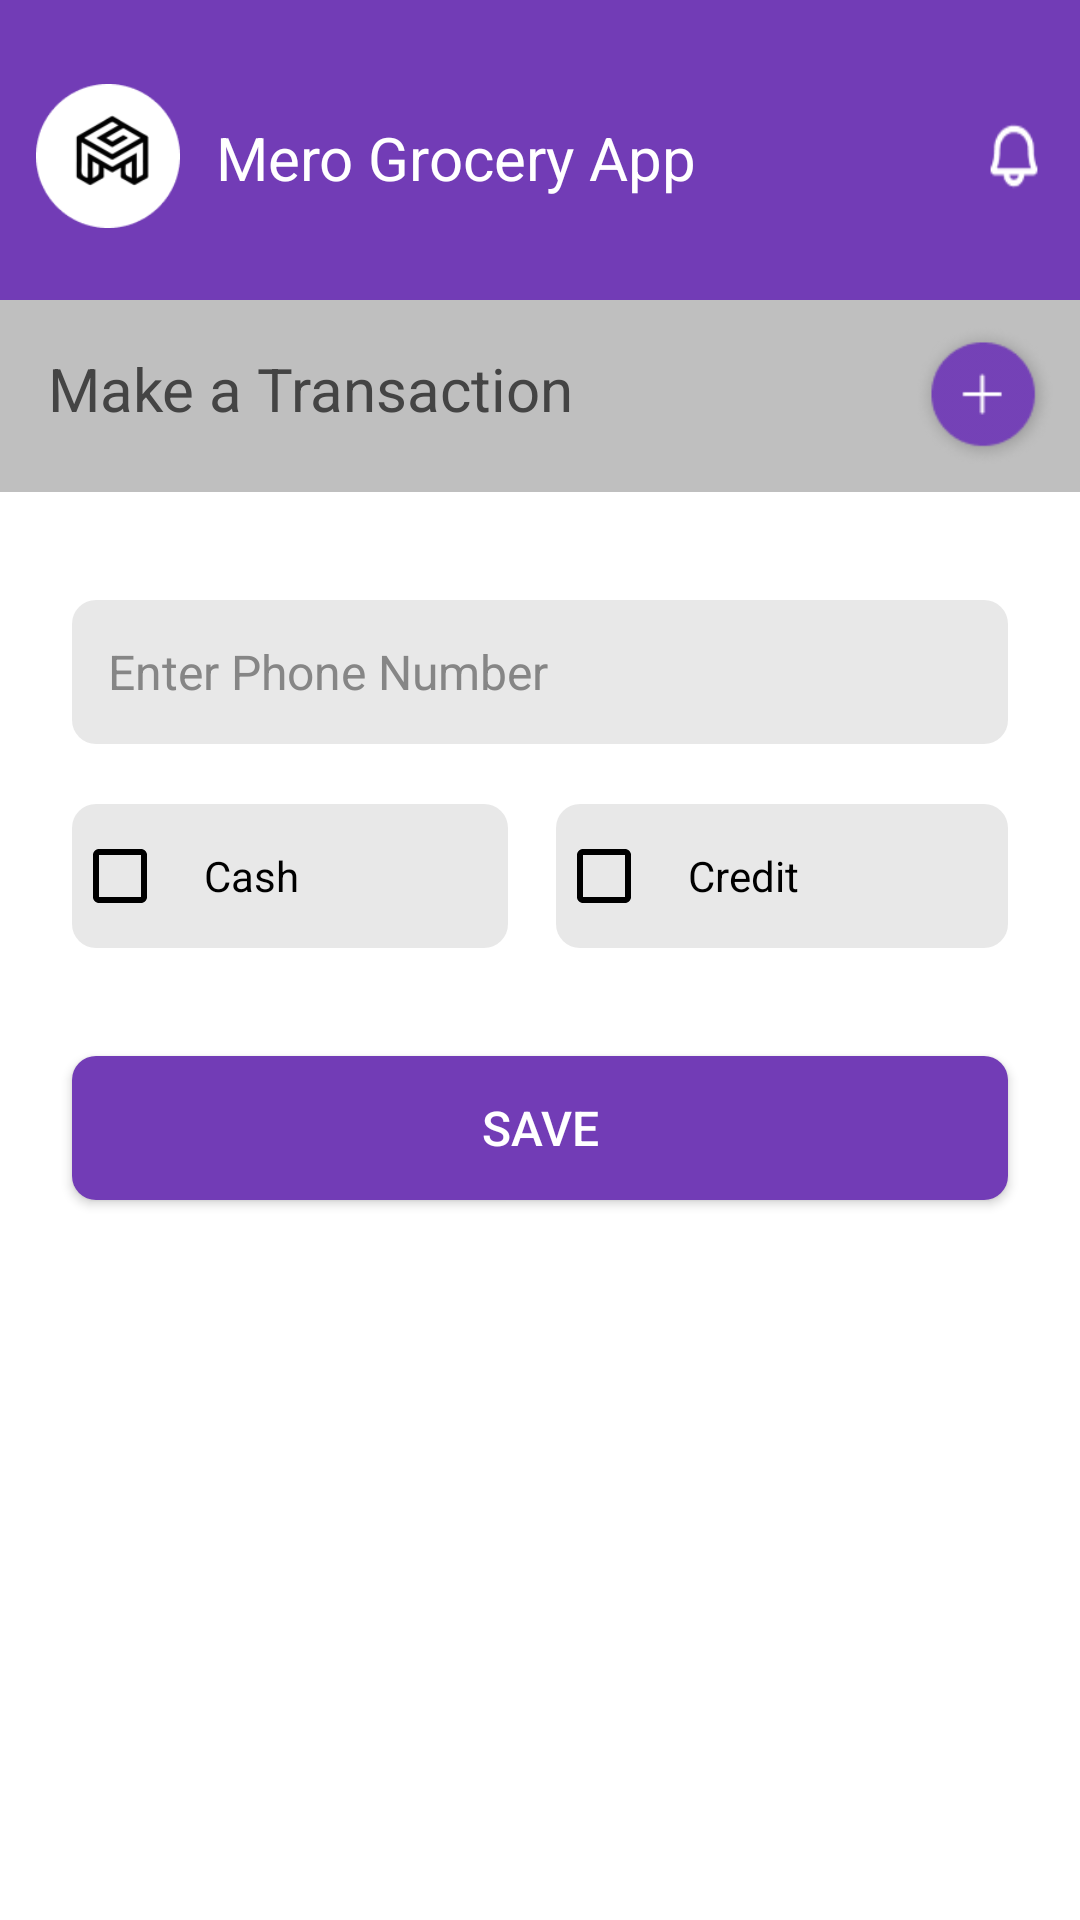

Icon click points for this 1080 × 1920 phone screenshot, format [x,y]:
add: [983,394]
Notification Icon: [1014,156]
